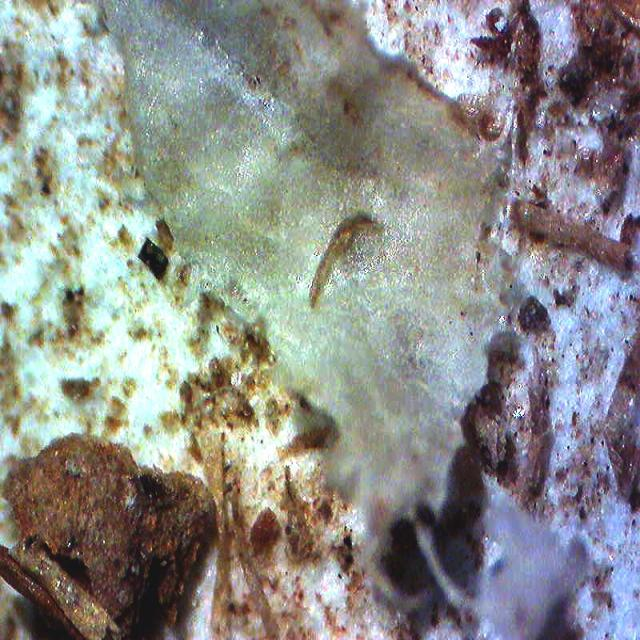microplastic: (103, 1, 512, 515)
